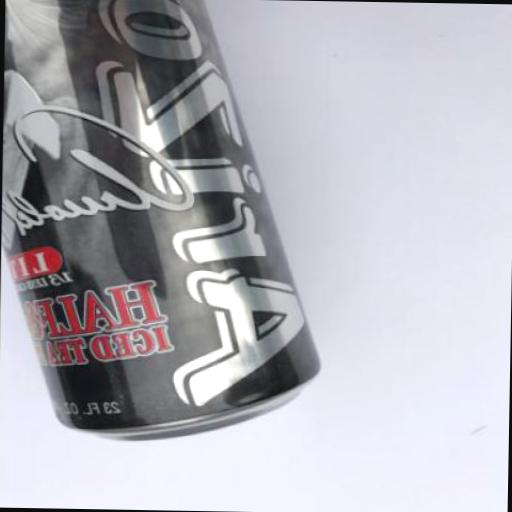metal: (0, 0, 327, 446)
